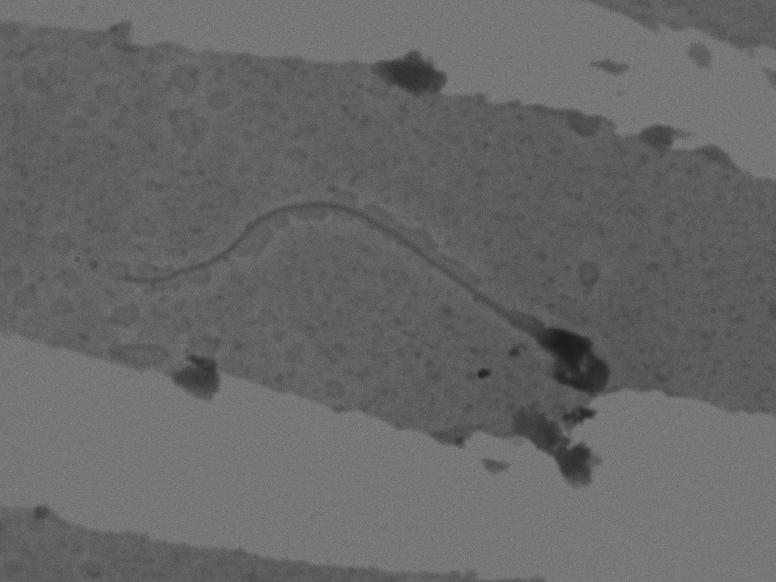Abnormal: (102, 171, 639, 398)
